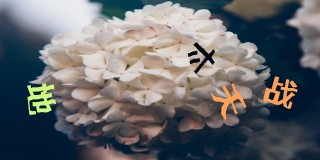地: (23, 82, 56, 116)
天: (210, 83, 247, 121)
斗: (188, 41, 216, 73)
站: (261, 74, 298, 111)
